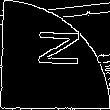N_W: (28, 34, 82, 76)
